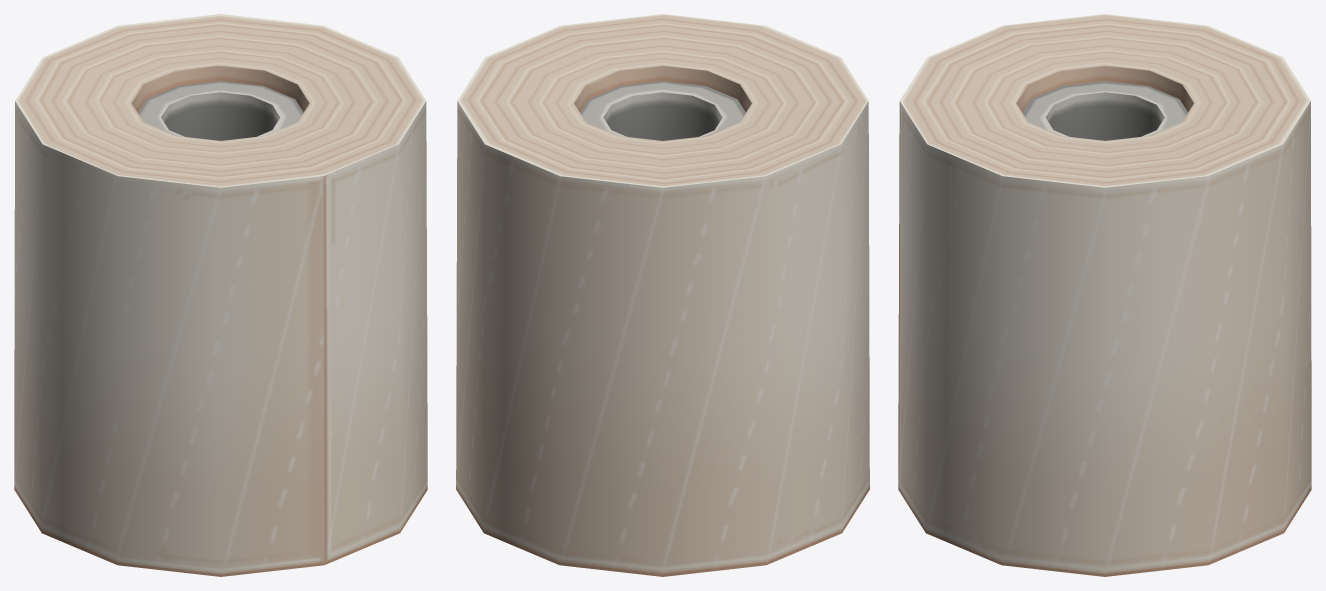
Rendered from bathroom_paper_roll.fbx.
3 views of the same model, side by side, from view 1: azimuth 30°, elevation 25°; view 2: azimuth 150°, elevation 25°; view 3: azimuth 270°, elevation 25° (orthographic).
Visible parts, largest first — view 1: bathroom_paper_roll; view 2: bathroom_paper_roll; view 3: bathroom_paper_roll.
Part boxes in pixels (x1=…): bathroom_paper_roll: x1=14, y1=14, x2=427, y2=576; bathroom_paper_roll: x1=456, y1=14, x2=869, y2=576; bathroom_paper_roll: x1=898, y1=14, x2=1311, y2=576.
Bounding box in the file's own units: 16.12 × 16.71 × 16.12.
